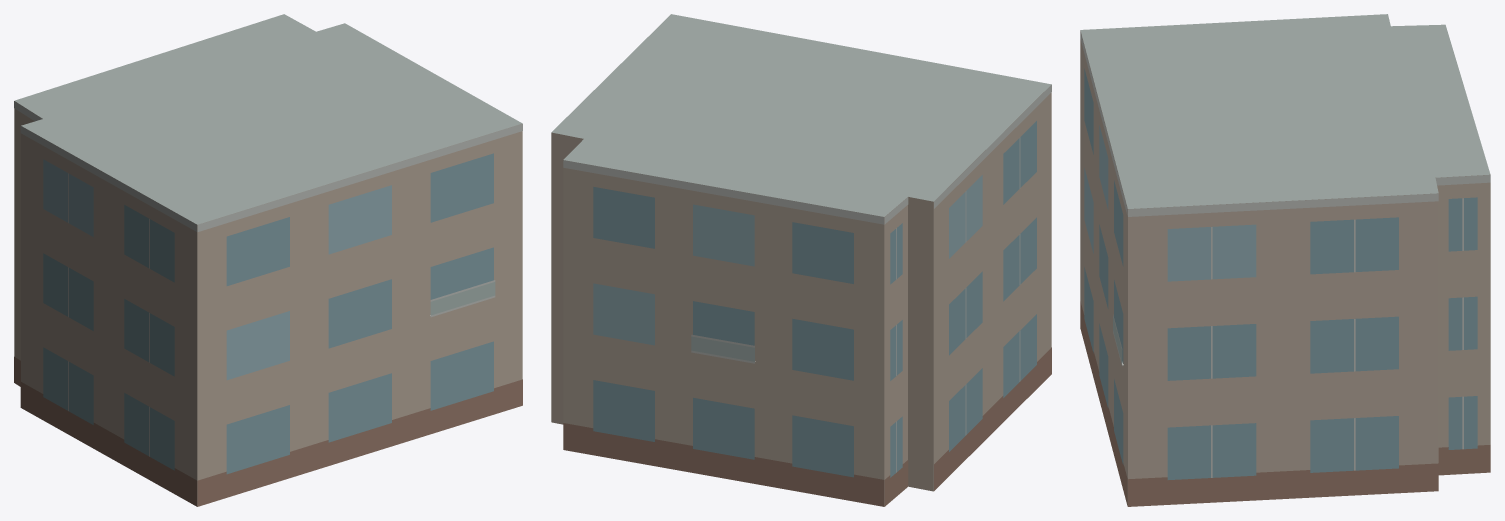
The model's file is survey-upis-32828891.glb.
3 views of the same model, side by side, from view 1: azimuth 30°, elevation 25°; view 2: azimuth 150°, elevation 25°; view 3: azimuth 270°, elevation 25° (orthographic). The views are drawn at different scales.
Visible parts, largest first — view 1: survey-upis-32828891.tmp; view 2: survey-upis-32828891.tmp; view 3: survey-upis-32828891.tmp.
Part boxes in pixels (<box>): survey-upis-32828891.tmp: <box>14,14,522,506</box>; survey-upis-32828891.tmp: <box>551,14,1051,506</box>; survey-upis-32828891.tmp: <box>1080,14,1490,506</box>.
Bounding box in the file's own units: 12.86 × 9.15 × 11.43.
